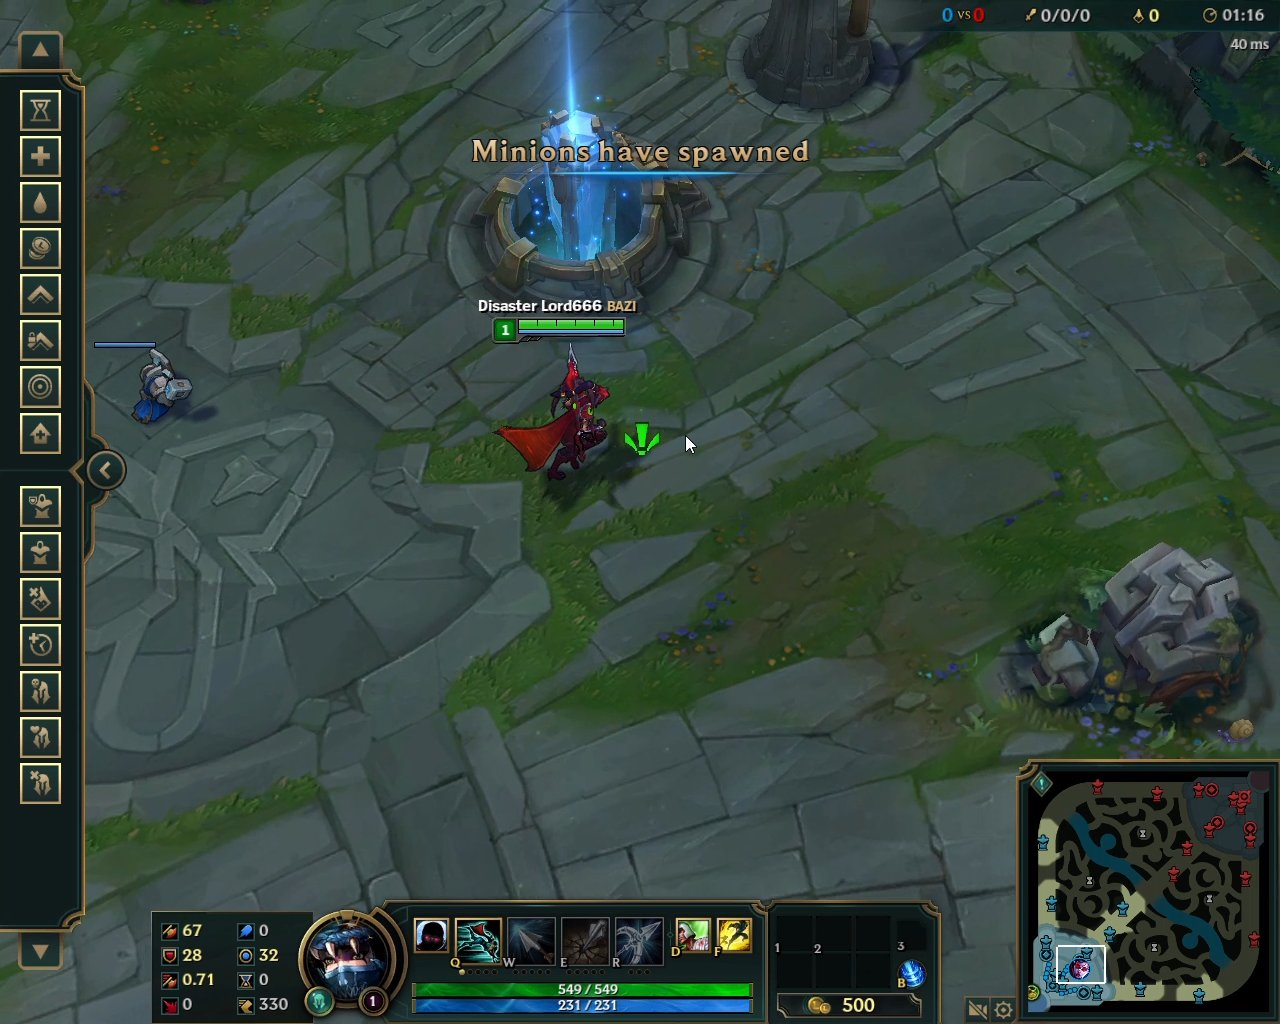Vayne: (489, 338, 618, 487)
